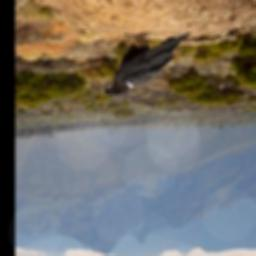Crow: (101, 29, 194, 99)
